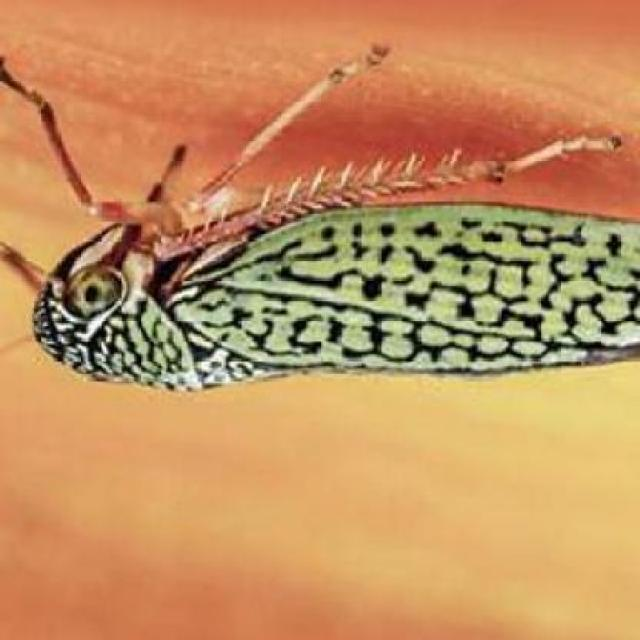green-leafhopper: (0, 169, 638, 388)
